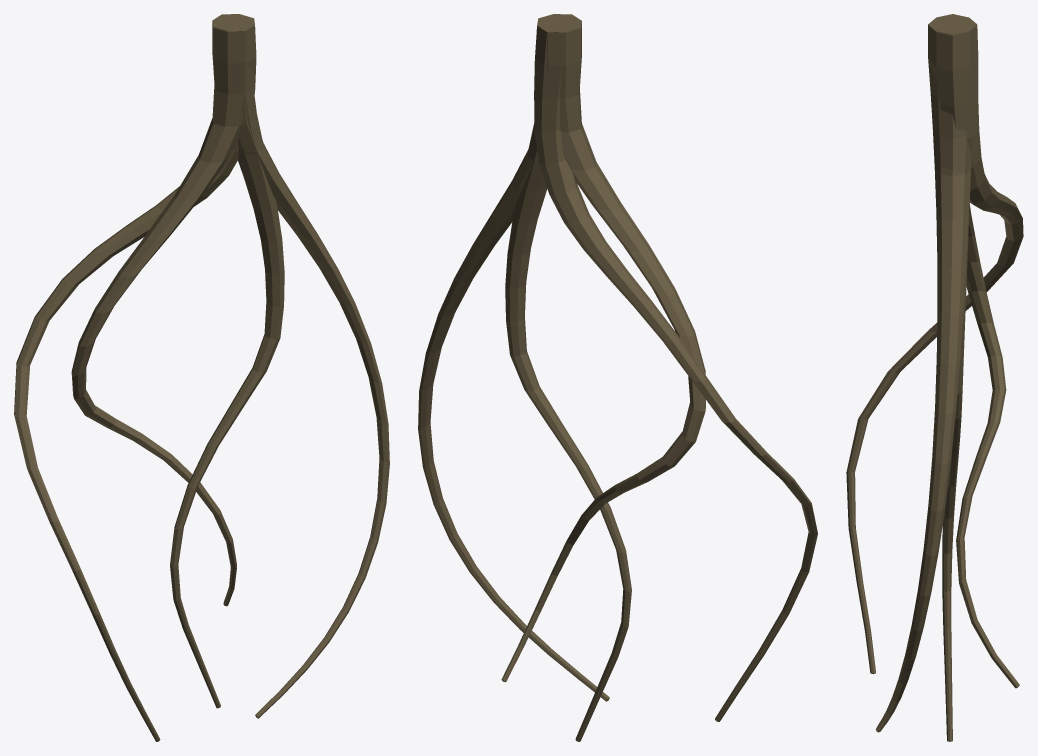
The model's file is RootBundle.2.fbx.
The picture shows the model from 3 angles, left to right: view 1: azimuth 30°, elevation 25°; view 2: azimuth 150°, elevation 25°; view 3: azimuth 270°, elevation 25°; orthographic projection. The views are drawn at different scales.
Visible parts, largest first — view 1: RootBundle.2; view 2: RootBundle.2; view 3: RootBundle.2.
Part boxes in pixels (bbox=[...]): RootBundle.2: bbox=[14, 14, 389, 741]; RootBundle.2: bbox=[418, 14, 817, 741]; RootBundle.2: bbox=[846, 14, 1023, 741].
Bounding box in the file's own units: 236 × 427 × 94.44.
